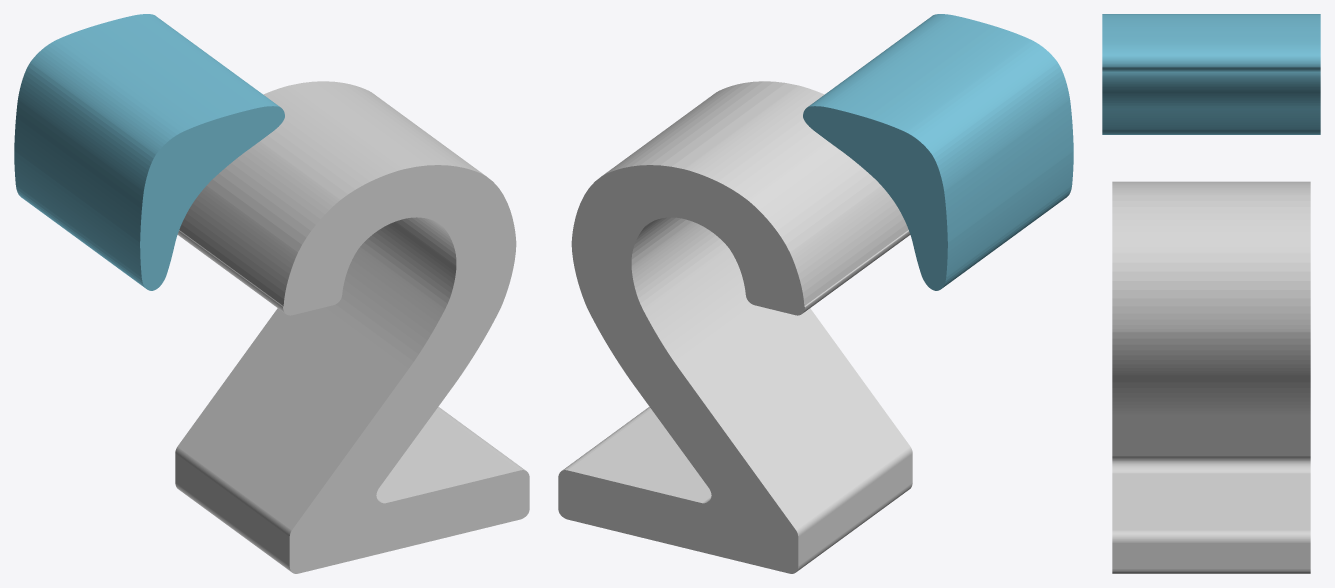
The picture shows the model from 3 angles, left to right: view 1: azimuth 30°, elevation 25°; view 2: azimuth 150°, elevation 25°; view 3: azimuth 270°, elevation 25°; orthographic projection. The views are drawn at different scales.
Visible parts, largest first — view 1: U+FE82F_layer00_obj00, U+FE82F_layer01_obj00; view 2: U+FE82F_layer00_obj00, U+FE82F_layer01_obj00; view 3: U+FE82F_layer00_obj00, U+FE82F_layer01_obj00.
Part boxes in pixels (<box>): U+FE82F_layer00_obj00: <box>175,81,529,573</box>; U+FE82F_layer01_obj00: <box>14,14,284,290</box>; U+FE82F_layer00_obj00: <box>558,81,912,573</box>; U+FE82F_layer01_obj00: <box>803,14,1073,290</box>; U+FE82F_layer00_obj00: <box>1112,181,1310,573</box>; U+FE82F_layer01_obj00: <box>1102,14,1320,134</box>.
Size of the model in its own units: 0.1994 by 0.232 by 0.11.
